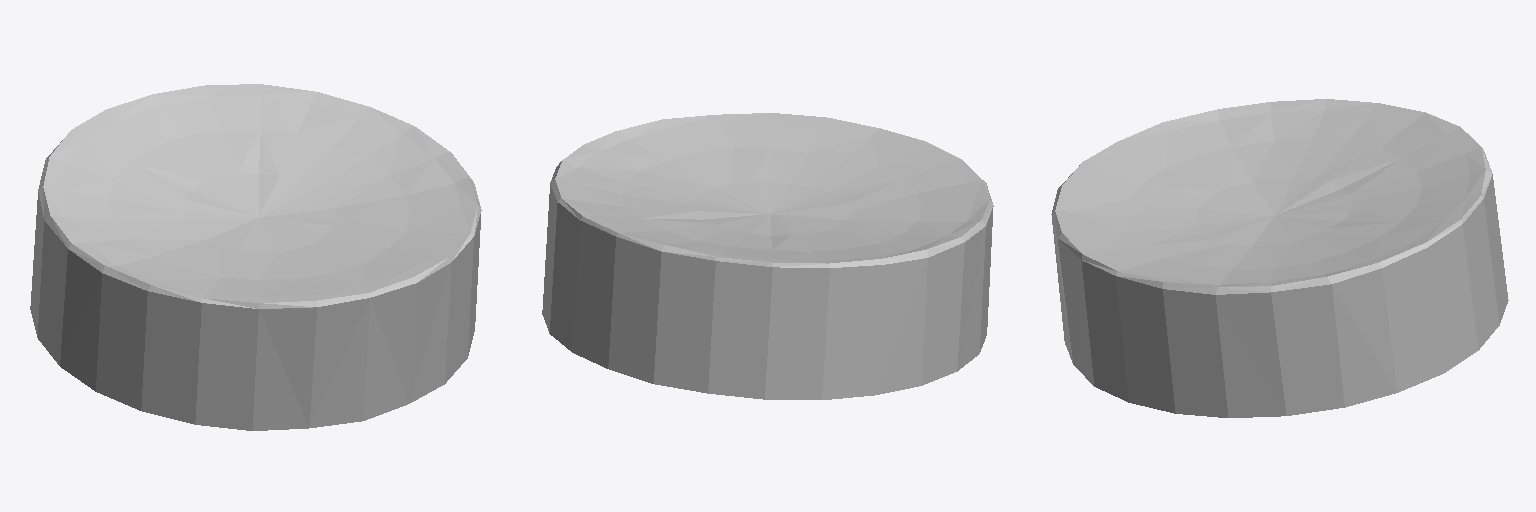
The model's file is sysbuttontri.obj.
3 renders of one model, left to right at view 1: azimuth 30°, elevation 25°; view 2: azimuth 150°, elevation 25°; view 3: azimuth 270°, elevation 25°, orthographic.
Visible parts, largest first — view 1: sys_but_group1; view 2: sys_but_group1; view 3: sys_but_group1.
Part boxes in pixels (x1,y1,x2,y2): sys_but_group1: (30,84,481,430); sys_but_group1: (542,113,993,399); sys_but_group1: (1051,99,1508,417).
Size of the model in its own units: 0.01 by 0.0043 by 0.0103.